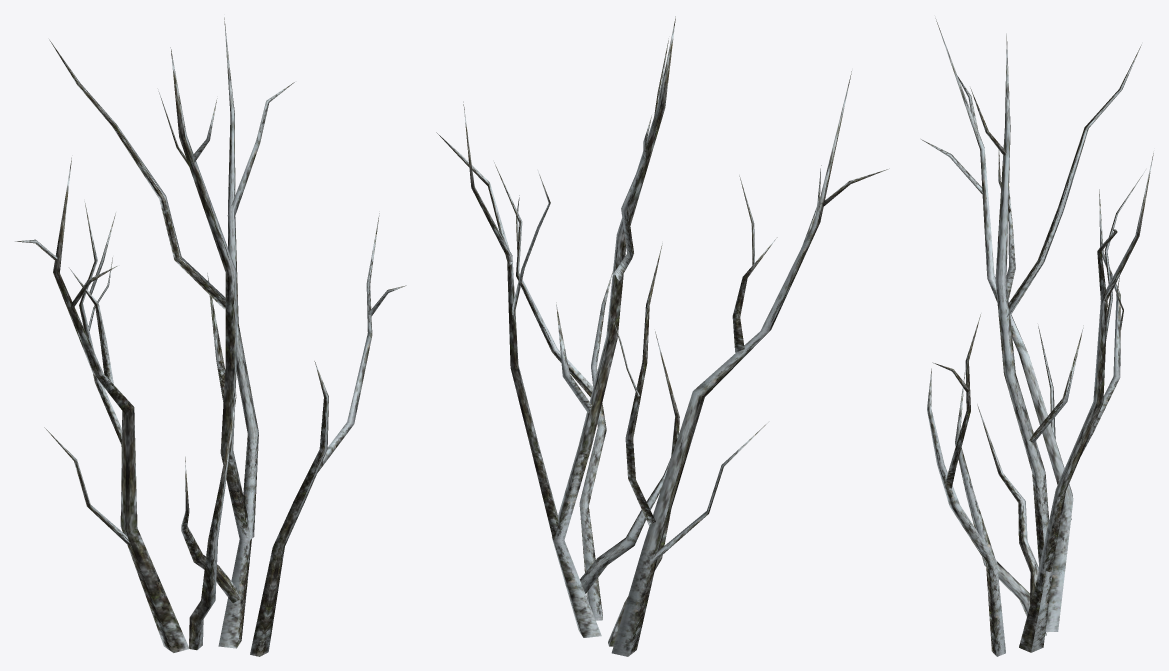
The model's file is S_Tree_White013.FBX.
The picture shows the model from 3 angles, left to right: view 1: azimuth 30°, elevation 25°; view 2: azimuth 150°, elevation 25°; view 3: azimuth 270°, elevation 25°; orthographic projection. The views are drawn at different scales.
Parts seen in each view (by area): view 1: S_Tree_White013; view 2: S_Tree_White013; view 3: S_Tree_White013.
Boxes of the visible parts, x1,y1,x2,y2 form: S_Tree_White013: (15,17,406,656); S_Tree_White013: (436,16,889,656); S_Tree_White013: (921,18,1153,656).
Size of the model in its own units: 626 by 358 by 980.
